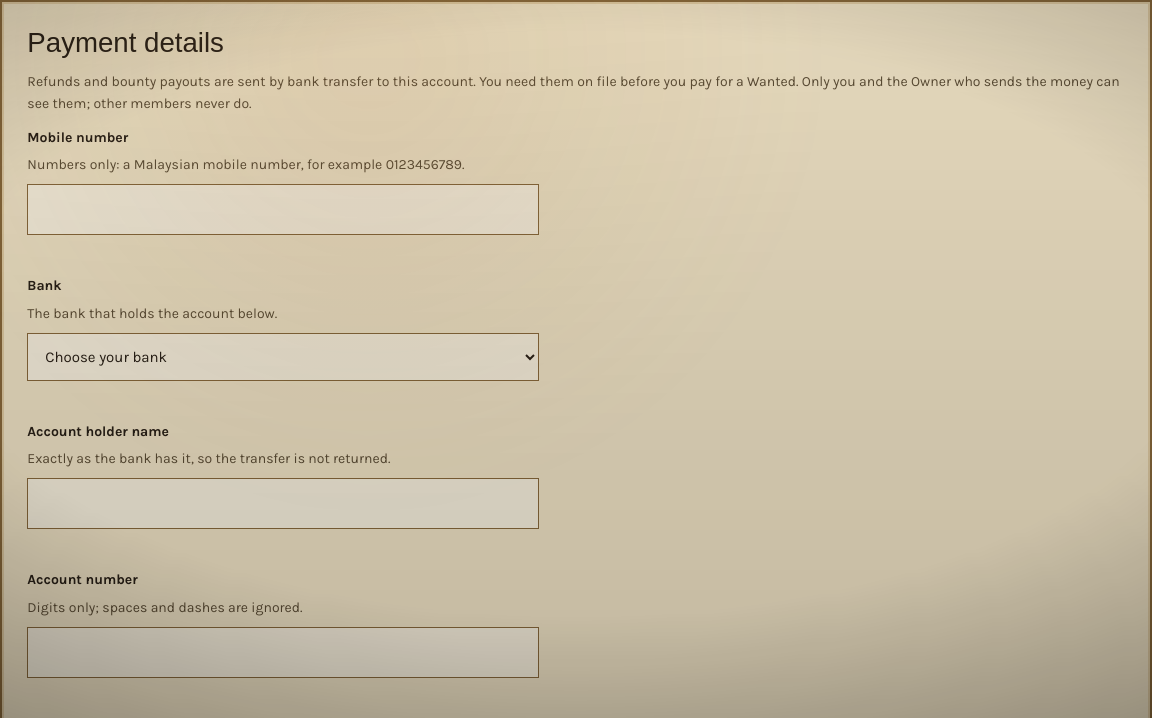
PaymentDetailsForm › saves with PUT and shows only the last four digits back
Type "012-345 6789" into the field labelled "Mobile number" at [283, 210], box x1=27 y1=184 x2=539 y2=235
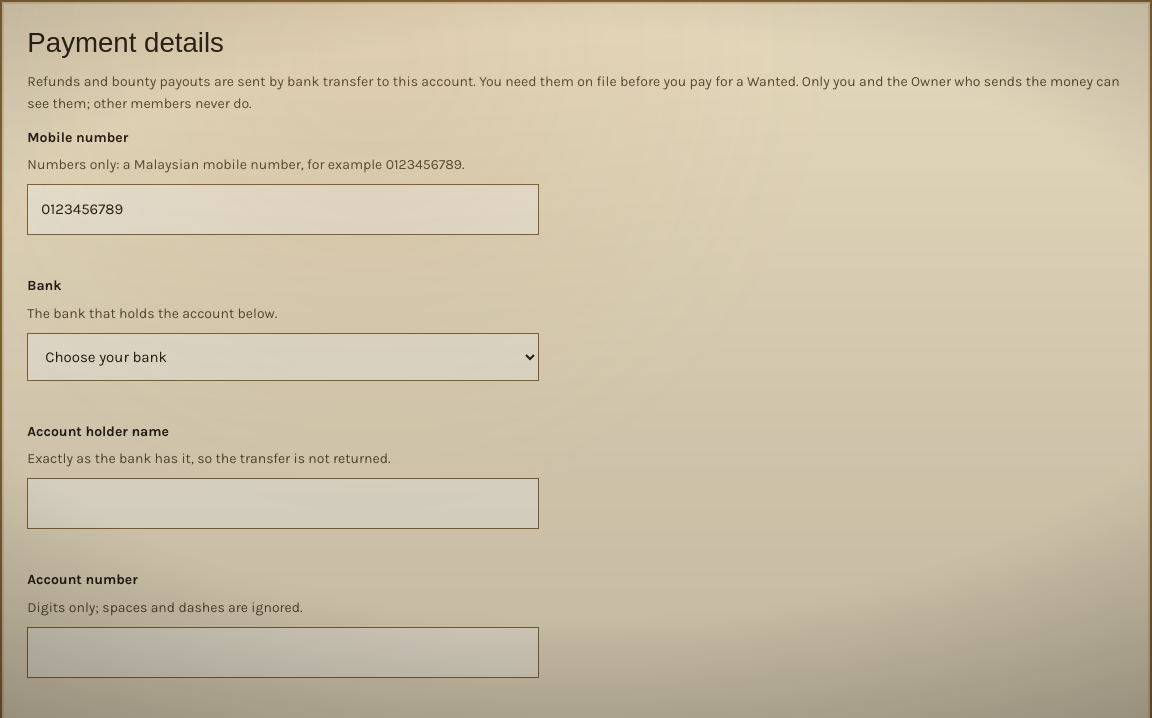
Select "Maybank" in the dropdown labelled "Bank" at [283, 356], box x1=27 y1=332 x2=539 y2=380
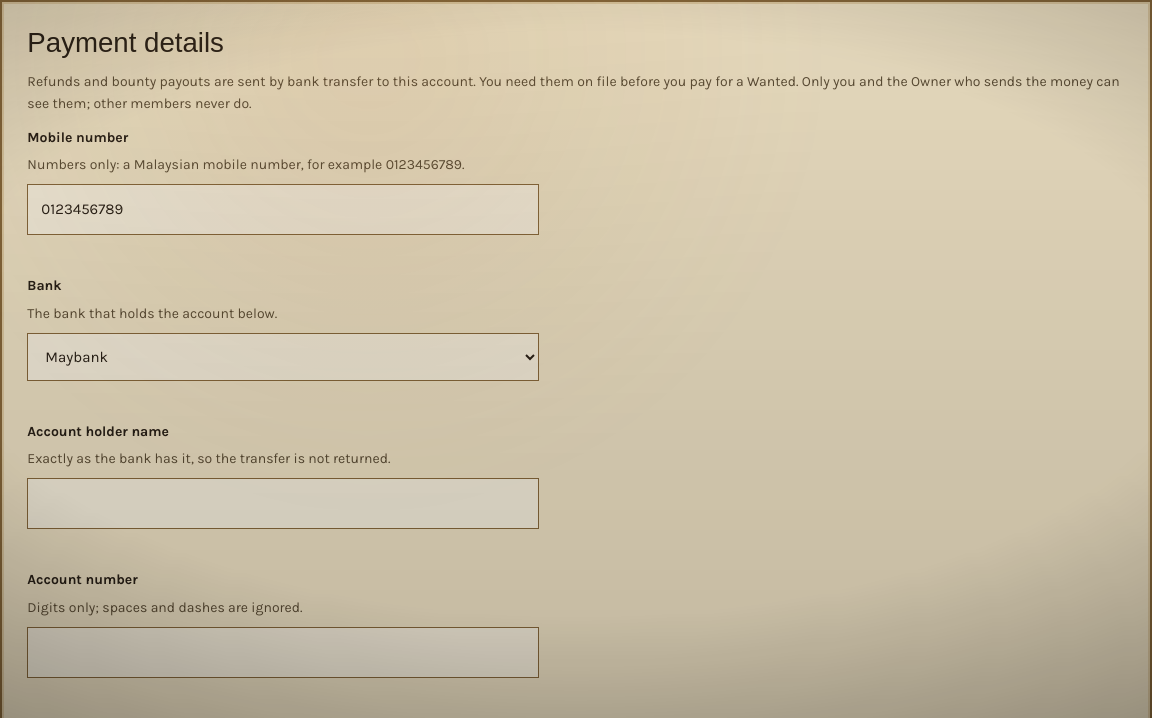
Type "Aminah Binti Ali" into the field labelled "Account holder name" at [283, 504], box x1=27 y1=478 x2=539 y2=529
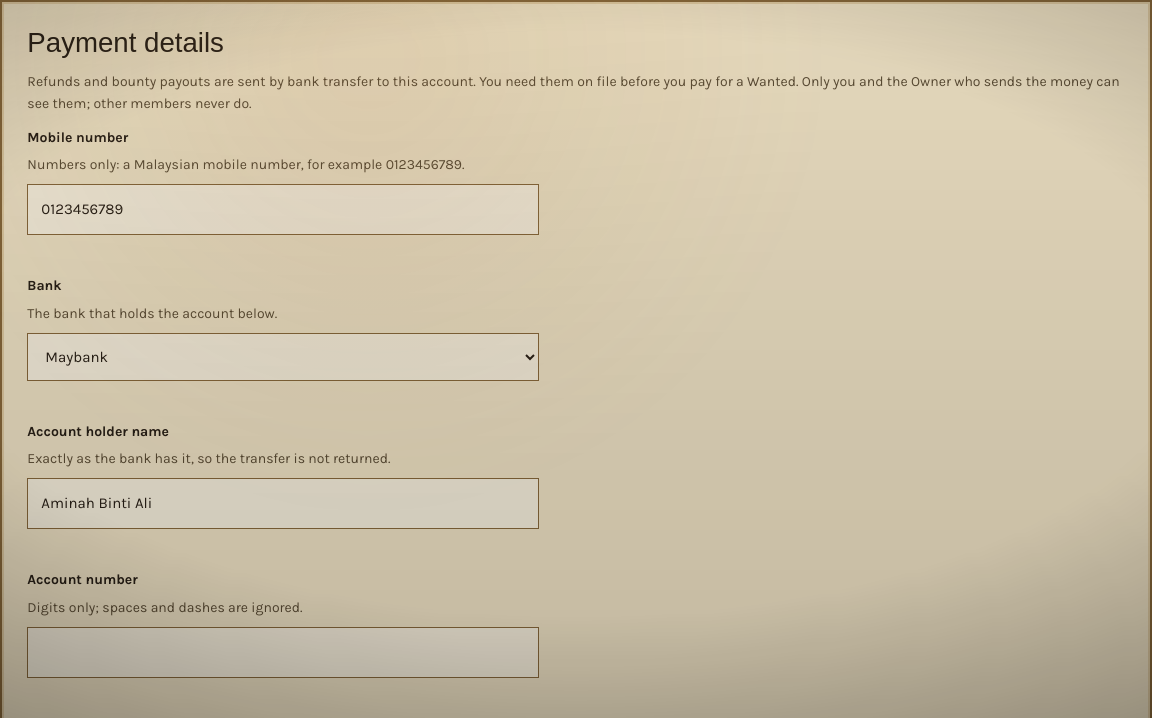
Type "1122 3344 6789" into the field labelled "Account number" at [283, 652], box x1=27 y1=626 x2=539 y2=678
(page scrolled)
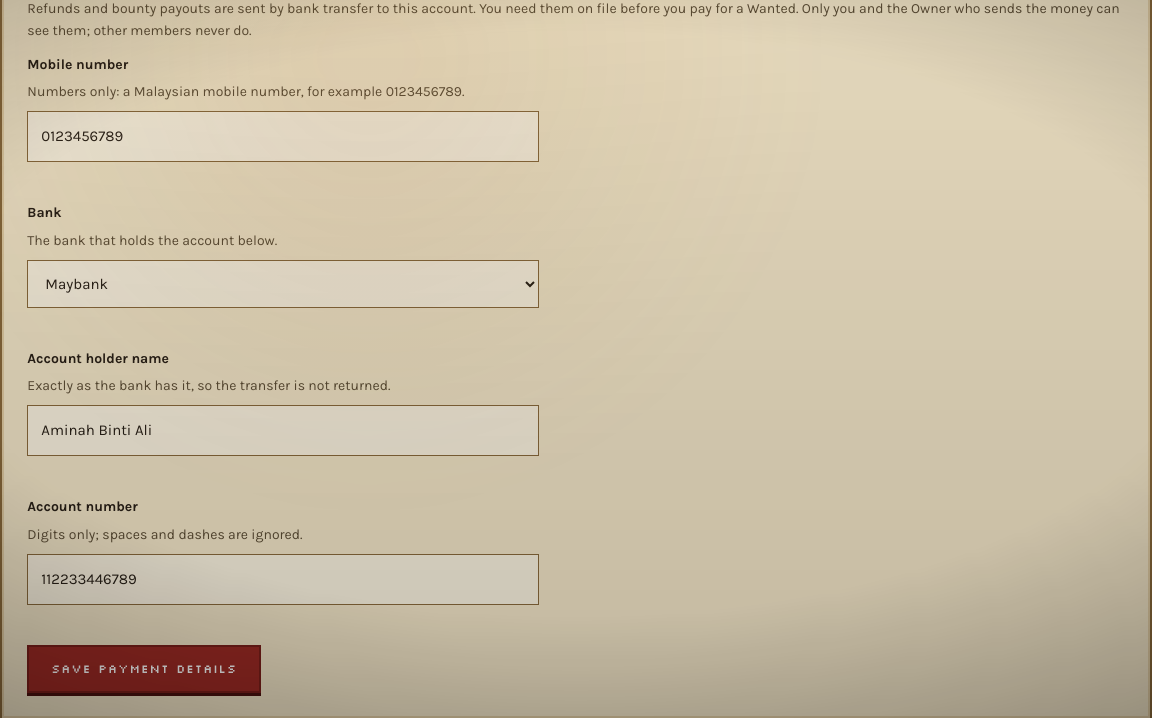
Click the button "Save payment details" at [144, 669], box x1=27 y1=645 x2=261 y2=693
(page scrolled)
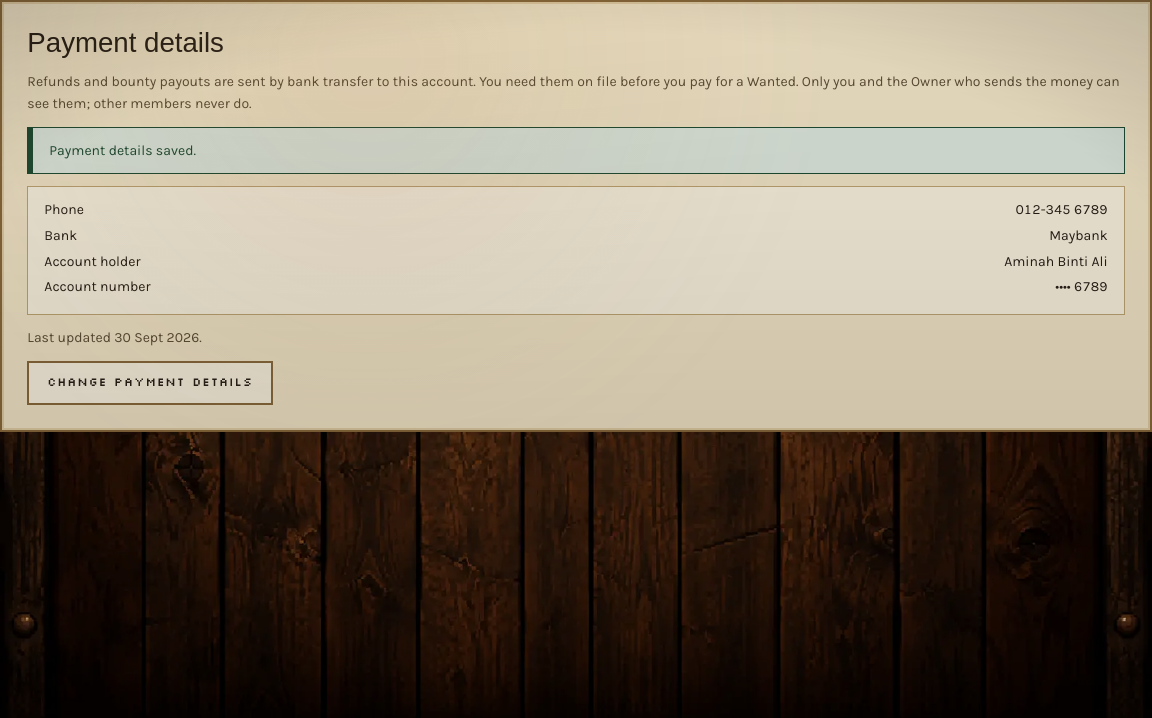
Expected: the text "112233446789" is not shown
Result: the text "Payment details saved." is shown at x1=27 y1=126 x2=1125 y2=174
Result: the text "6789" is shown at x1=1074 y1=278 x2=1108 y2=295
